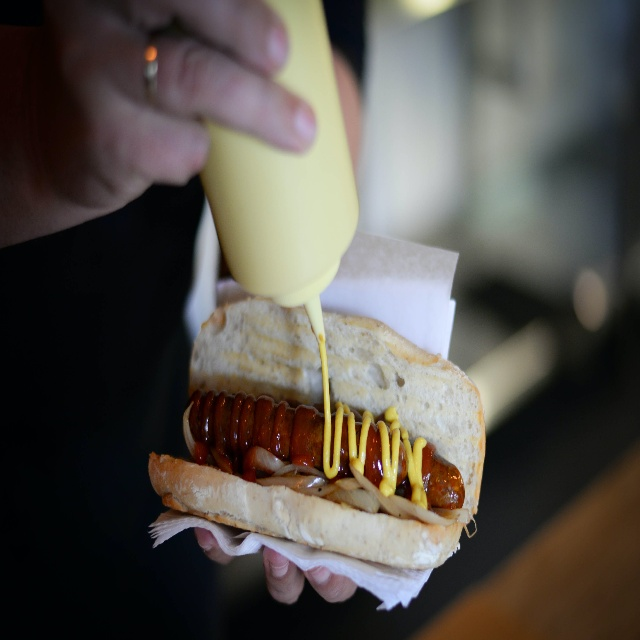Sin_guantes: (28, 0, 317, 214)
